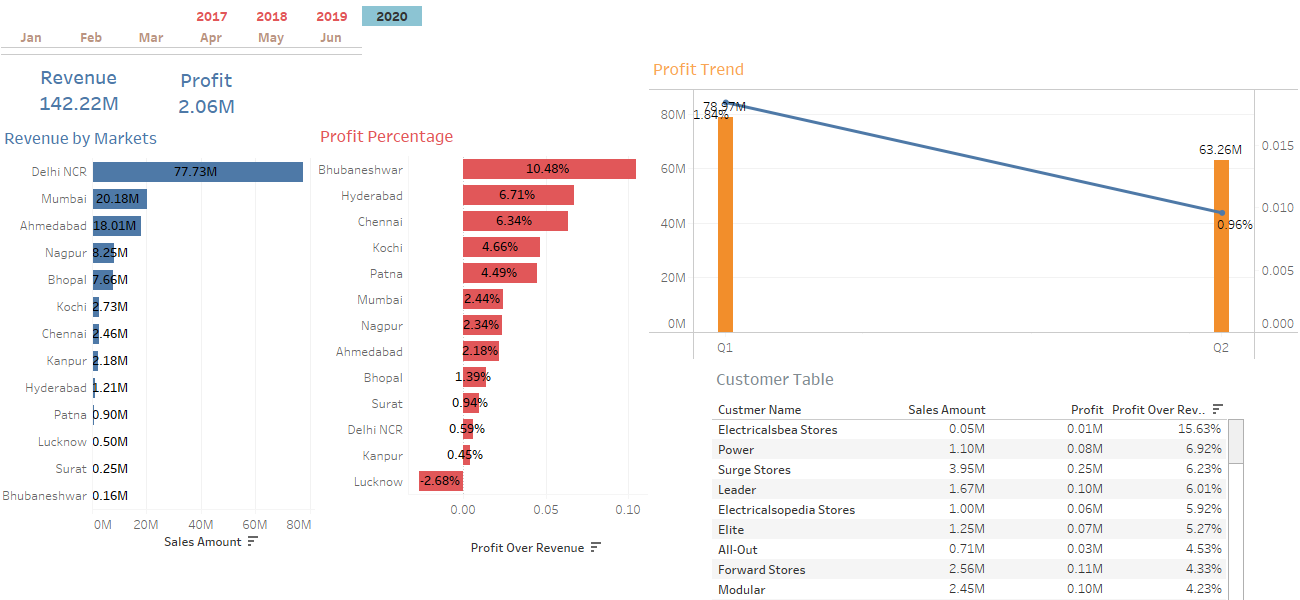

What the dashboard file says about the page in this screenshot:
{"tool":"tableau","page":{"name":"Profit Analysis","canvas":[1300,600],"ordinal":0},"visuals":[{"type":"worksheet","title":"Year Tab","mark":"Automatic","cols":["cy_date"],"box":[182,6,314,20]},{"type":"worksheet","title":"Month Tab","mark":"Automatic","cols":["cy_date"],"box":[1,27,725,31]},{"type":"worksheet","title":"Profit Trend","mark":"Automatic","rows":["sales_amount","Calculation_256142246869929984"],"cols":["cy_date"],"box":[649,52,650,308]},{"type":"worksheet","title":"Revenue","mark":"Automatic","box":[29,64,104,58]},{"type":"worksheet","title":"Profit","mark":"Automatic","box":[167,67,100,52]},{"type":"worksheet","title":"Profit Percentage","mark":"Automatic","rows":["markets_name"],"cols":["Calculation_256142246869929984"],"box":[316,119,331,475]},{"type":"worksheet","title":"Revenue by Markets","mark":"Automatic","rows":["markets_name"],"cols":["sales_amount"],"box":[0,121,314,466]},{"type":"worksheet","title":"Customer Table","mark":"Automatic","rows":["custmer_name"],"box":[712,362,532,239]}]}

Visuals, with their boxes in screenshot pixels (x1, y1, x2, y2), scaled from the page's 1300x600 canvas onto the 1300x600 screenshot:
"Year Tab" worksheet: (182,6,496,26)
"Month Tab" worksheet: (1,27,726,58)
"Profit Trend" worksheet: (649,52,1299,360)
"Revenue" worksheet: (29,64,133,122)
"Profit" worksheet: (167,67,267,119)
"Profit Percentage" worksheet: (316,119,647,594)
"Revenue by Markets" worksheet: (0,121,314,587)
"Customer Table" worksheet: (712,362,1244,599)
